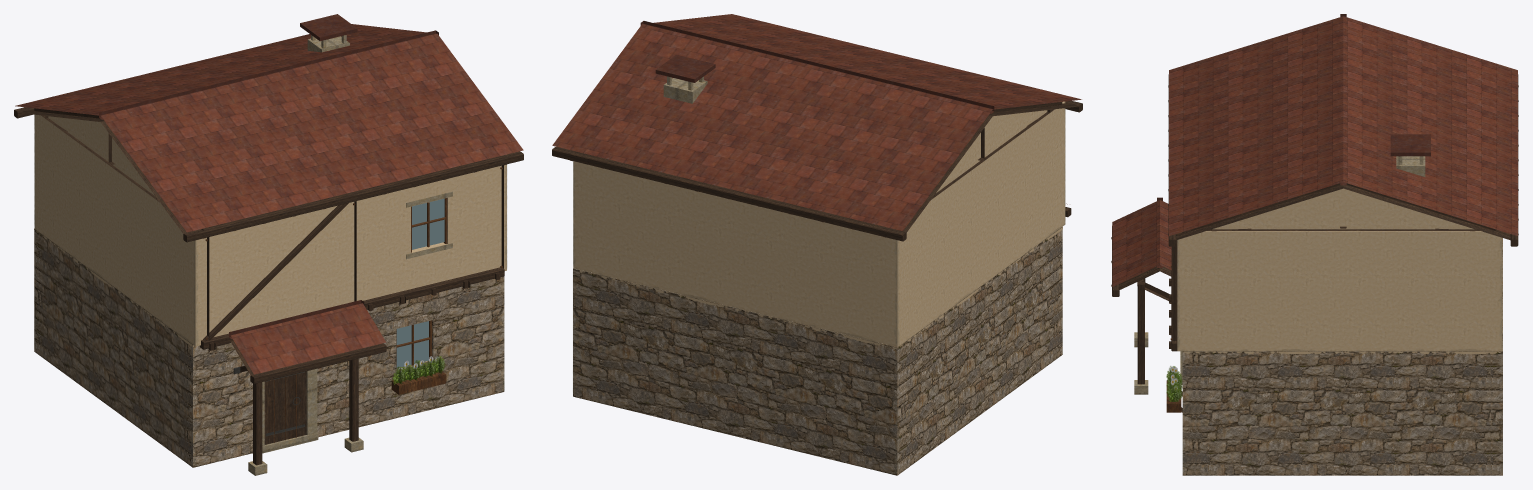
The model's file is B15_vivienda.gltf.
3 views of the same model, side by side, from view 1: azimuth 30°, elevation 25°; view 2: azimuth 150°, elevation 25°; view 3: azimuth 270°, elevation 25° (orthographic). The views are drawn at different scales.
Parts seen in each view (by area): view 1: AUR034_B15_clay_tiles, B15_runtime_static_113, AUR034_B15_lower_masonry, B15_runtime_static_000, AUR034_B15_porch_clay_tiles, B15_runtime_static_076, B15_runtime_static_091, AUR034_B15_entry_leaf0, B15_runtime_static_093, AUR034_B15_window1_glazing, AUR034_B15_window0_glazing, B15_herbs_0; view 2: AUR034_B15_lower_masonry, AUR034_B15_clay_tiles, B15_runtime_static_113, B15_runtime_static_000, B15_runtime_static_091, B15_plaster_stone_joint_wear, B15_runtime_static_076; view 3: AUR034_B15_clay_tiles, B15_runtime_static_113, AUR034_B15_lower_masonry, B15_runtime_static_000, AUR034_B15_porch_clay_tiles, B15_runtime_static_091, B15_runtime_static_076, B15_plaster_stone_joint_wear, B15_herbs_0.
Part boxes in pixels (box(x1,y1,x2,y2)): AUR034_B15_clay_tiles: box(15, 24, 523, 232); B15_runtime_static_113: box(34, 114, 506, 346); AUR034_B15_lower_masonry: box(34, 229, 504, 467); B15_runtime_static_000: box(14, 107, 523, 465); AUR034_B15_porch_clay_tiles: box(228, 303, 386, 374); B15_runtime_static_076: box(248, 35, 452, 475); B15_runtime_static_091: box(99, 14, 438, 339); AUR034_B15_entry_leaf0: box(264, 371, 306, 444); B15_runtime_static_093: box(205, 167, 502, 442); AUR034_B15_window1_glazing: box(412, 198, 444, 249); AUR034_B15_window0_glazing: box(396, 321, 428, 367); B15_herbs_0: box(392, 356, 445, 384); AUR034_B15_lower_masonry: box(573, 227, 1062, 475); AUR034_B15_clay_tiles: box(552, 14, 1081, 231); B15_runtime_static_113: box(573, 101, 1065, 347); B15_runtime_static_000: box(552, 101, 1082, 241); B15_runtime_static_091: box(640, 21, 994, 113); B15_plaster_stone_joint_wear: box(579, 224, 1064, 349); B15_runtime_static_076: box(663, 76, 707, 103); AUR034_B15_clay_tiles: box(1169, 16, 1517, 235); B15_runtime_static_113: box(1177, 188, 1502, 351); AUR034_B15_lower_masonry: box(1182, 238, 1502, 475); B15_runtime_static_000: box(1111, 74, 1518, 412); AUR034_B15_porch_clay_tiles: box(1112, 200, 1171, 286); B15_runtime_static_091: box(1157, 14, 1430, 267); B15_runtime_static_076: box(1134, 156, 1425, 394); B15_plaster_stone_joint_wear: box(1182, 349, 1500, 354); B15_herbs_0: box(1166, 366, 1182, 401).
Size of the model in its own units: 8.96 by 7.64 by 9.29.
Materials: 14 (13 with a texture image).
